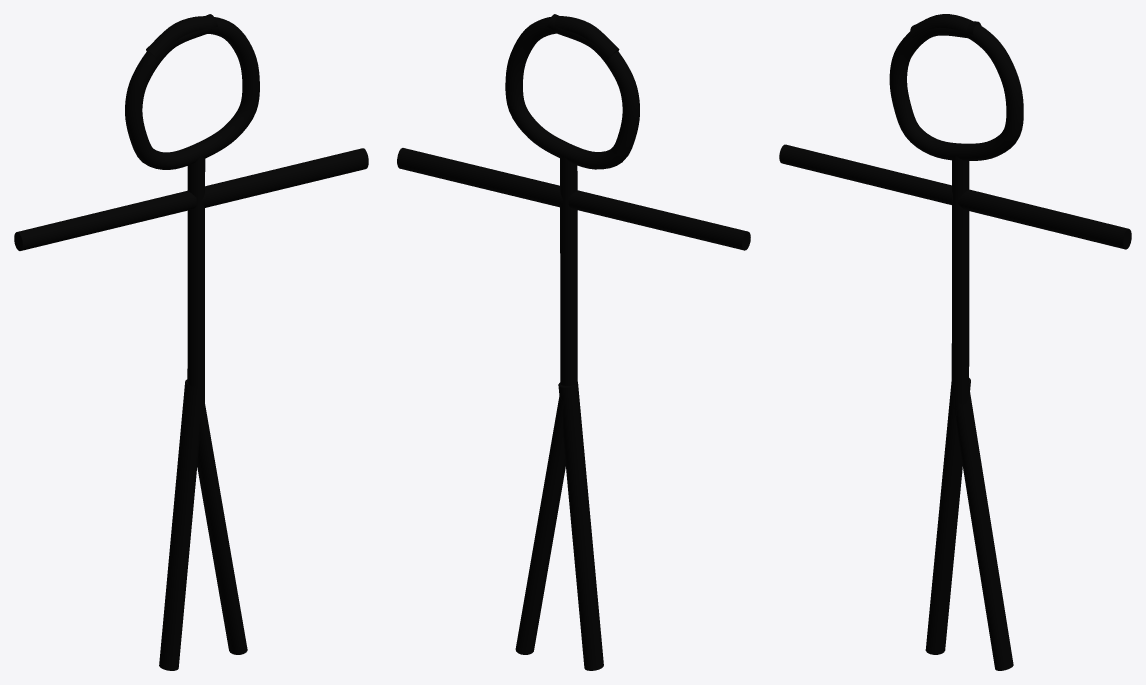
The model's file is Victim-The Chosen One (Animator VS Animation).glb.
The picture shows the model from 3 angles, left to right: view 1: azimuth 30°, elevation 25°; view 2: azimuth 150°, elevation 25°; view 3: azimuth 330°, elevation 25°; orthographic projection.
Parts seen in each view (by area): view 1: mesh_id29, mesh_id63, mesh_id53, mesh_id35, mesh_id47, mesh_id41; view 2: mesh_id29, mesh_id63, mesh_id53, mesh_id35, mesh_id47, mesh_id41; view 3: mesh_id29, mesh_id53, mesh_id63, mesh_id35, mesh_id41, mesh_id47.
Part boxes in pixels (<box>): mesh_id29: <box>125,14,259,169</box>; mesh_id63: <box>159,379,200,670</box>; mesh_id53: <box>197,400,247,654</box>; mesh_id35: <box>187,156,205,418</box>; mesh_id47: <box>14,190,196,250</box>; mesh_id41: <box>202,148,368,207</box>; mesh_id29: <box>505,14,639,169</box>; mesh_id63: <box>558,382,603,670</box>; mesh_id53: <box>515,396,565,654</box>; mesh_id35: <box>560,157,577,385</box>; mesh_id47: <box>568,190,750,250</box>; mesh_id41: <box>397,148,562,207</box>; mesh_id29: <box>889,14,1023,161</box>; mesh_id53: <box>955,392,1013,670</box>; mesh_id63: <box>925,378,970,654</box>; mesh_id35: <box>951,156,969,415</box>; mesh_id41: <box>957,189,1131,249</box>; mesh_id47: <box>779,144,952,204</box>.
Bounding box in the file's own units: 0.3051 × 0.5438 × 0.0167.
Materials: 6 (6 with a texture image).
